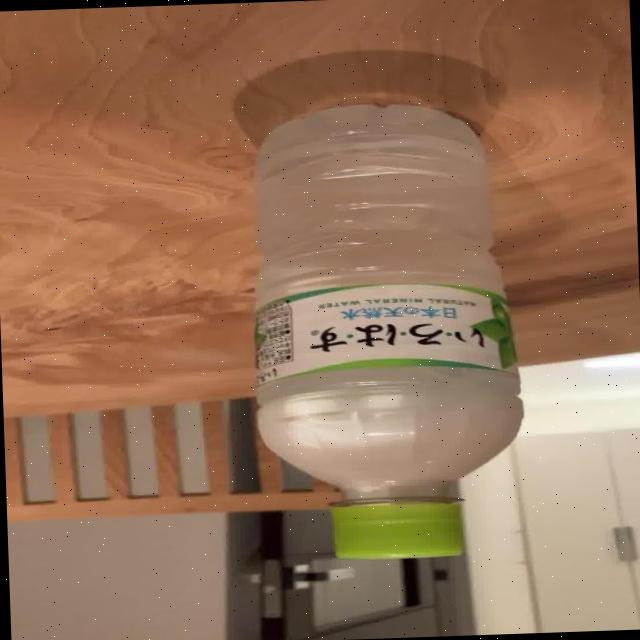bottle: (234, 92, 537, 568)
cap: (318, 484, 482, 576)
label: (243, 282, 525, 386)
